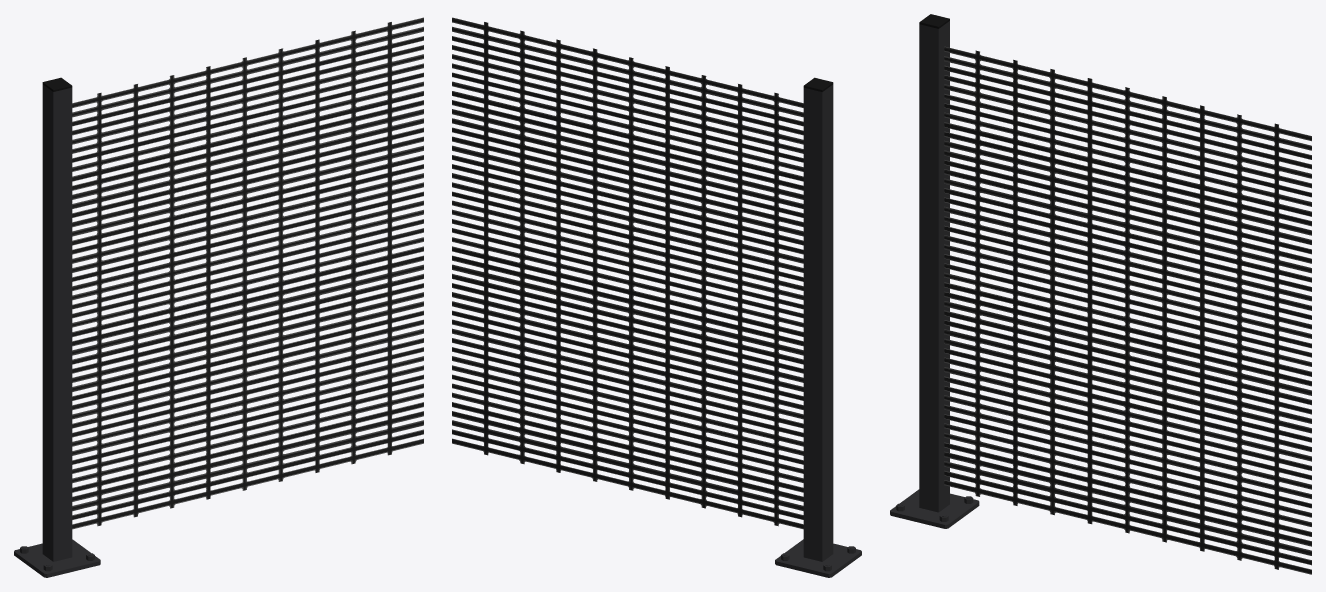
The model's file is SM05_Safety_Fence_01_Straight_1000_Half.fbx.
The picture shows the model from 3 angles, left to right: view 1: azimuth 30°, elevation 25°; view 2: azimuth 150°, elevation 25°; view 3: azimuth 330°, elevation 25°; orthographic projection. The views are drawn at different scales.
Parts seen in each view (by area): view 1: SM05_Safety_Fence_01_Straight_1000_Half; view 2: SM05_Safety_Fence_01_Straight_1000_Half; view 3: SM05_Safety_Fence_01_Straight_1000_Half.
Part boxes in pixels (bbox=[...]): SM05_Safety_Fence_01_Straight_1000_Half: bbox=[14, 17, 423, 577]; SM05_Safety_Fence_01_Straight_1000_Half: bbox=[452, 17, 861, 577]; SM05_Safety_Fence_01_Straight_1000_Half: bbox=[890, 14, 1311, 574].
Size of the model in its own units: 1.05 by 1.21 by 0.15.
